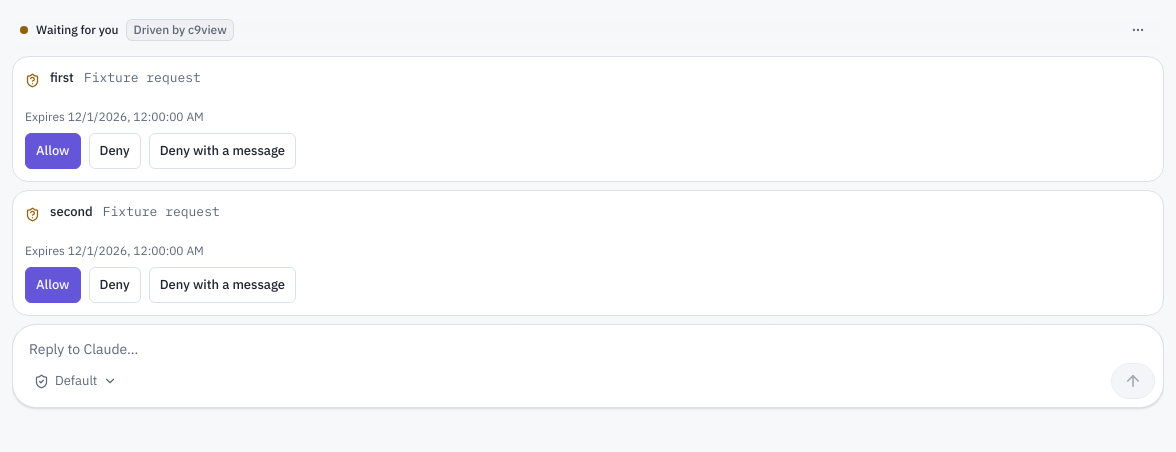
preserves a failed receipt error while unlocking its card
Click the button "Allow" below "first" at [53, 151], box [25, 133, 80, 169]
Wait 10 ms
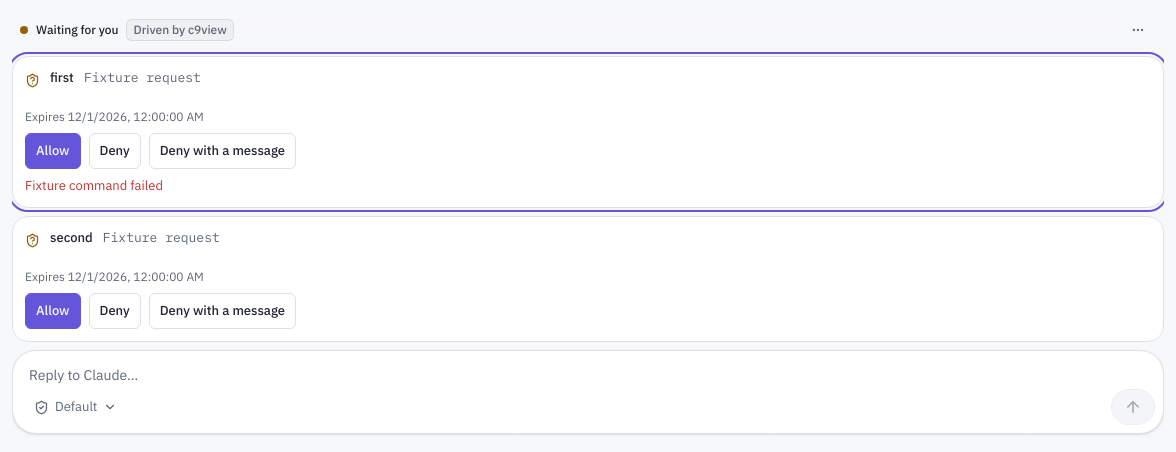
Now the text "Fixture command failed" is shown, box [25, 177, 163, 194]
